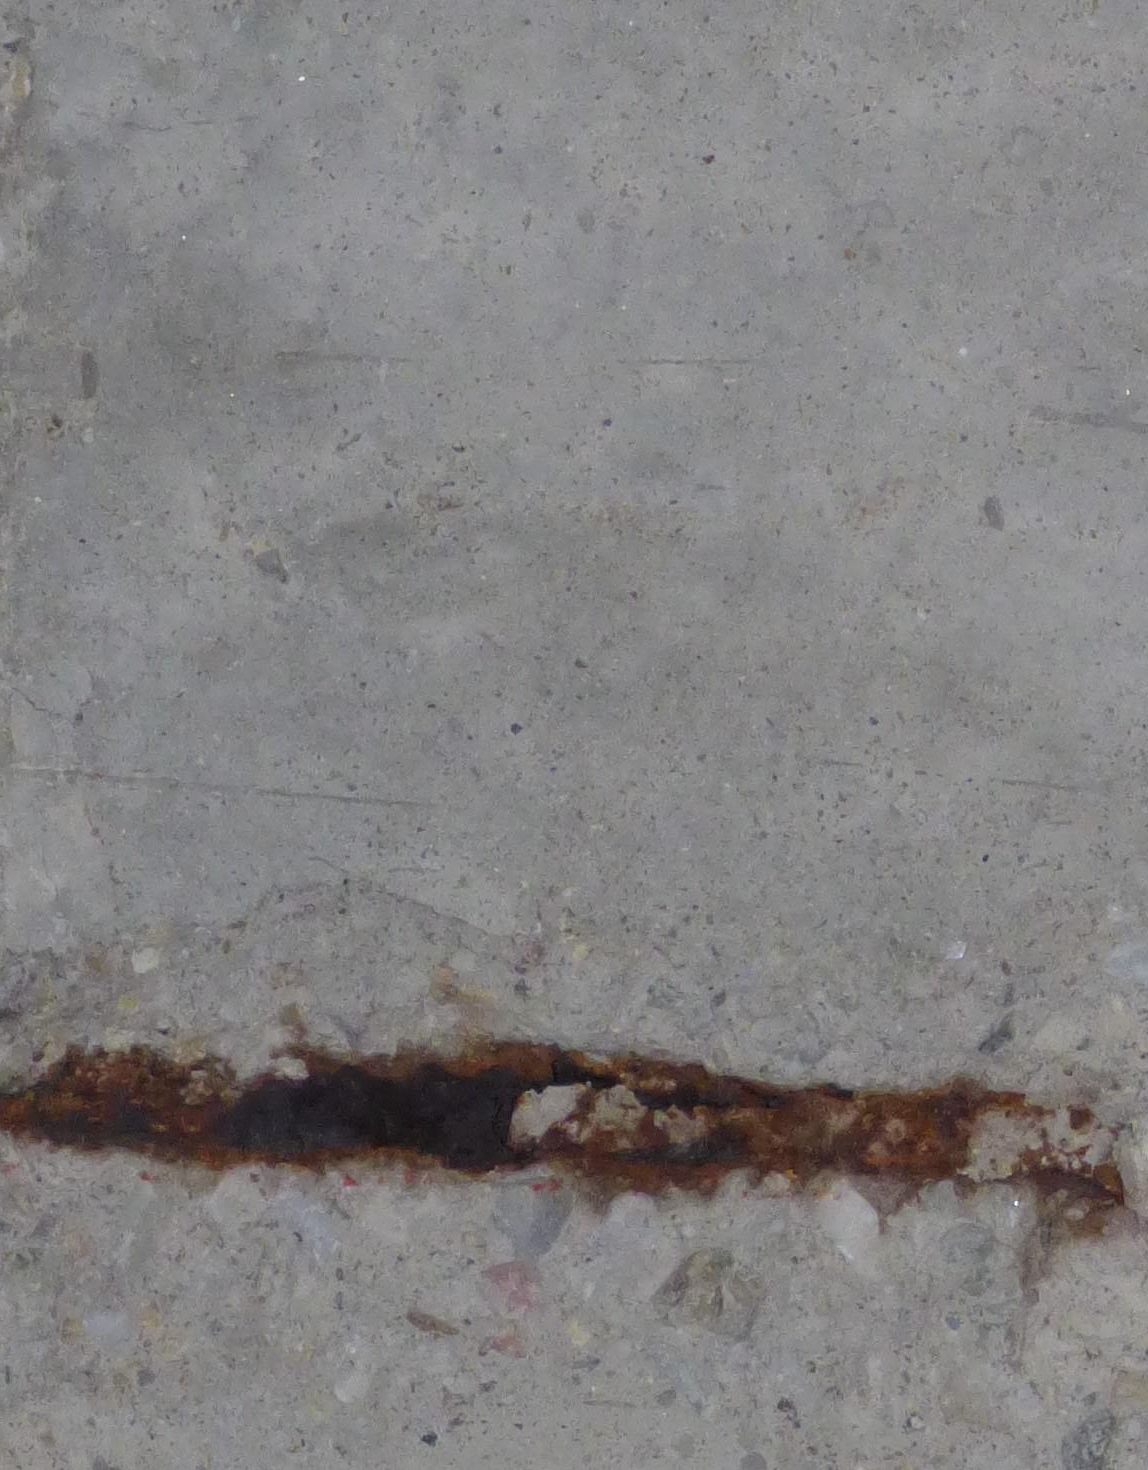Exposed reinforcement: (1, 1036, 1148, 1230)
